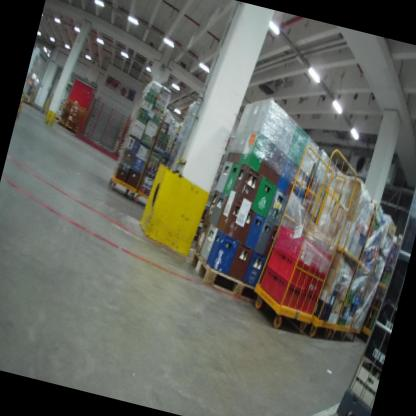pallet: (181, 247, 270, 308)
small_load_carrier: (259, 242, 316, 296), (254, 263, 311, 316), (269, 226, 320, 272), (306, 246, 338, 279), (301, 267, 330, 301), (295, 288, 323, 319)
